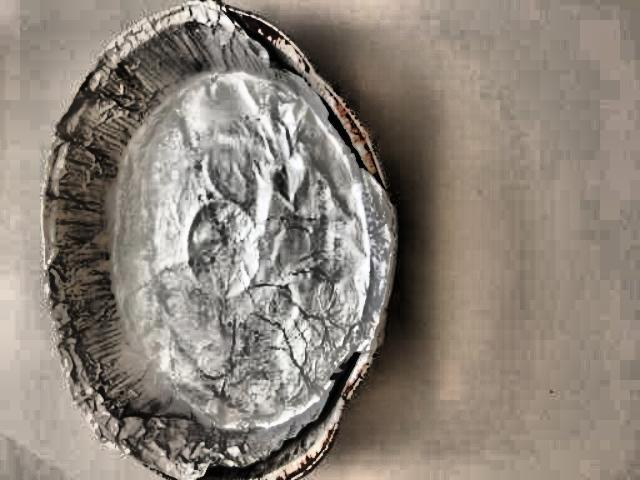Almennt: (20, 1, 419, 480)
